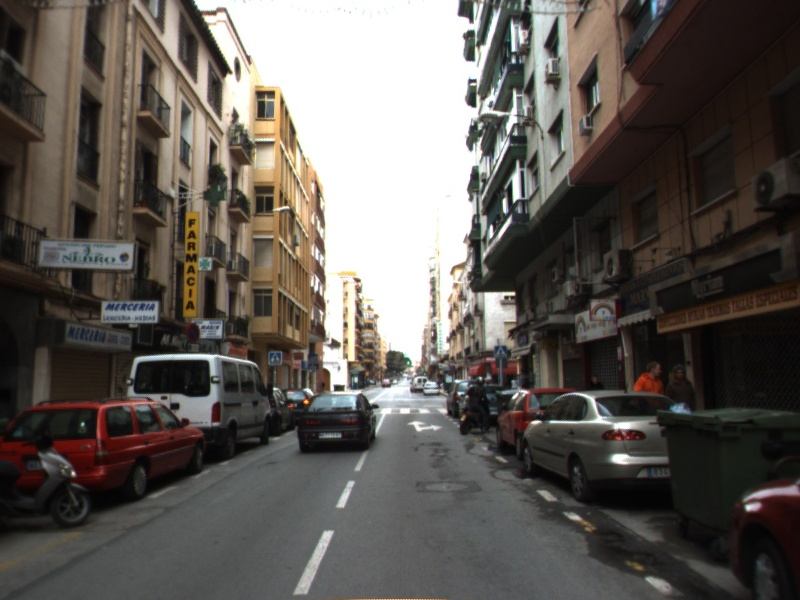STRAIGHT_RIGHT: (406, 419, 444, 433)
